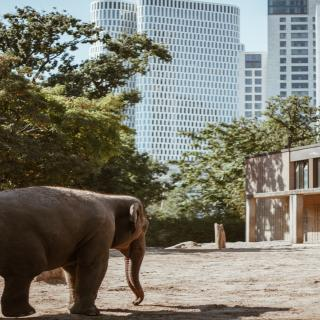Elephant: (0, 183, 165, 320)
